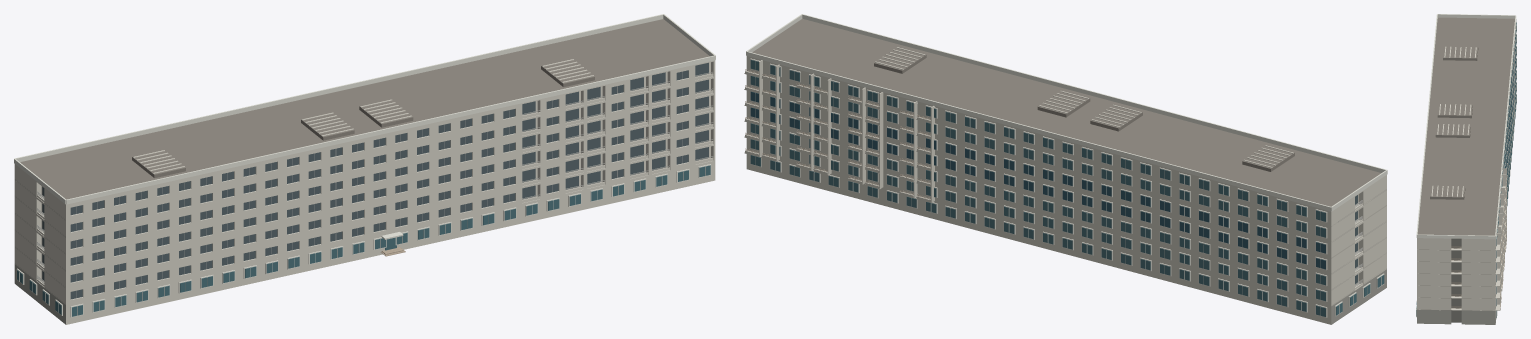
File: chunk-dorm-way-760187417.glb
3 views of the same model, side by side, from view 1: azimuth 30°, elevation 25°; view 2: azimuth 150°, elevation 25°; view 3: azimuth 270°, elevation 25° (orthographic). The views are drawn at different scales.
Visible parts, largest first — view 1: chunk-dorm-way-760187417; view 2: chunk-dorm-way-760187417; view 3: chunk-dorm-way-760187417.
Part boxes in pixels (bbox=[...]): chunk-dorm-way-760187417: bbox=[14, 14, 715, 324]; chunk-dorm-way-760187417: bbox=[744, 14, 1387, 324]; chunk-dorm-way-760187417: bbox=[1416, 14, 1516, 324].
Size of the model in its own units: 125 by 23.21 by 23.88.
11 materials, 1 textured.
